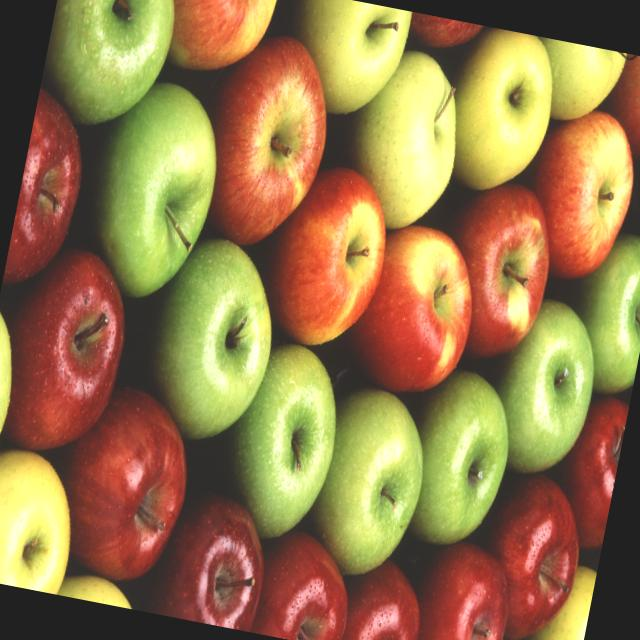apple: (64, 72, 232, 308), (183, 24, 336, 258), (42, 374, 205, 575), (147, 222, 287, 448), (140, 230, 286, 438), (0, 239, 138, 456), (331, 39, 468, 240), (342, 214, 484, 402), (301, 382, 434, 580), (358, 206, 488, 407), (396, 364, 527, 562), (428, 175, 562, 367), (442, 168, 573, 362), (220, 338, 342, 542), (388, 366, 520, 552), (510, 102, 640, 286), (271, 161, 393, 353), (476, 291, 606, 470), (433, 22, 562, 202), (466, 466, 592, 638), (33, 0, 183, 138), (2, 89, 92, 294), (146, 489, 270, 628), (541, 225, 640, 399), (284, 0, 400, 122), (539, 392, 629, 544), (400, 535, 518, 640), (333, 554, 431, 640), (592, 51, 640, 166)
